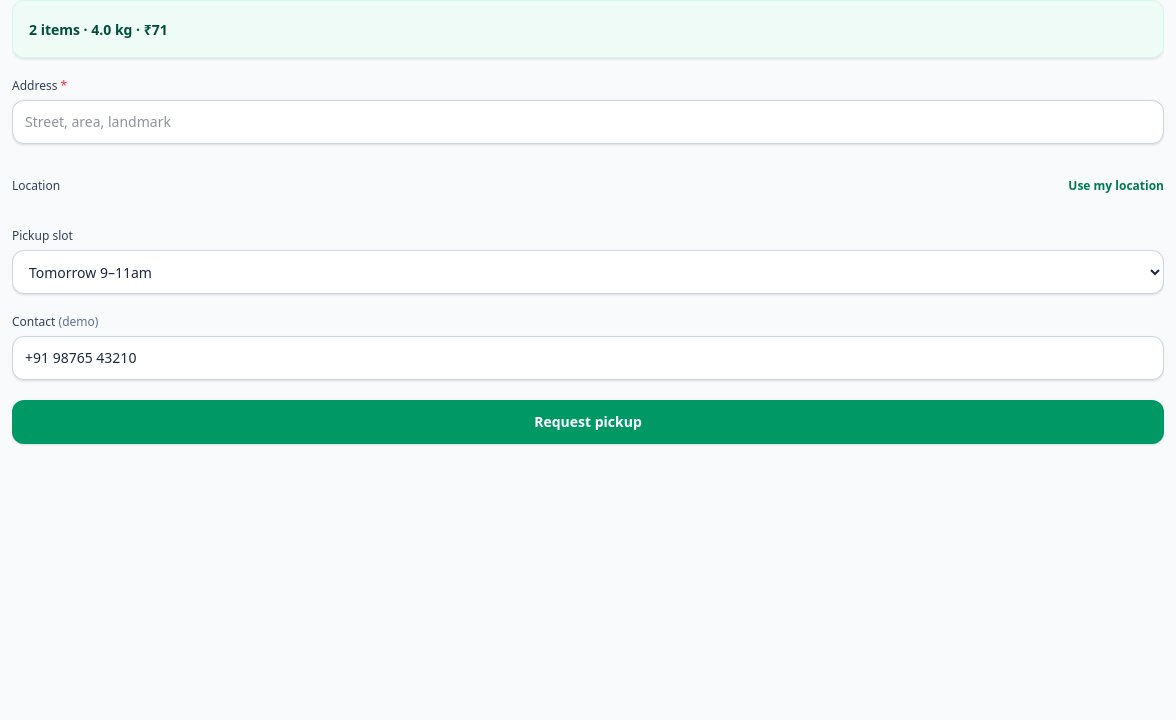
Test: PickupRequestForm › on error → inline error shown
The width and height of the screenshot is (1176, 720).
Type "Some address" into the field with placeholder "Street, area, landmark".
click(588, 122); type("Some address")  # box [12,100,1164,144]
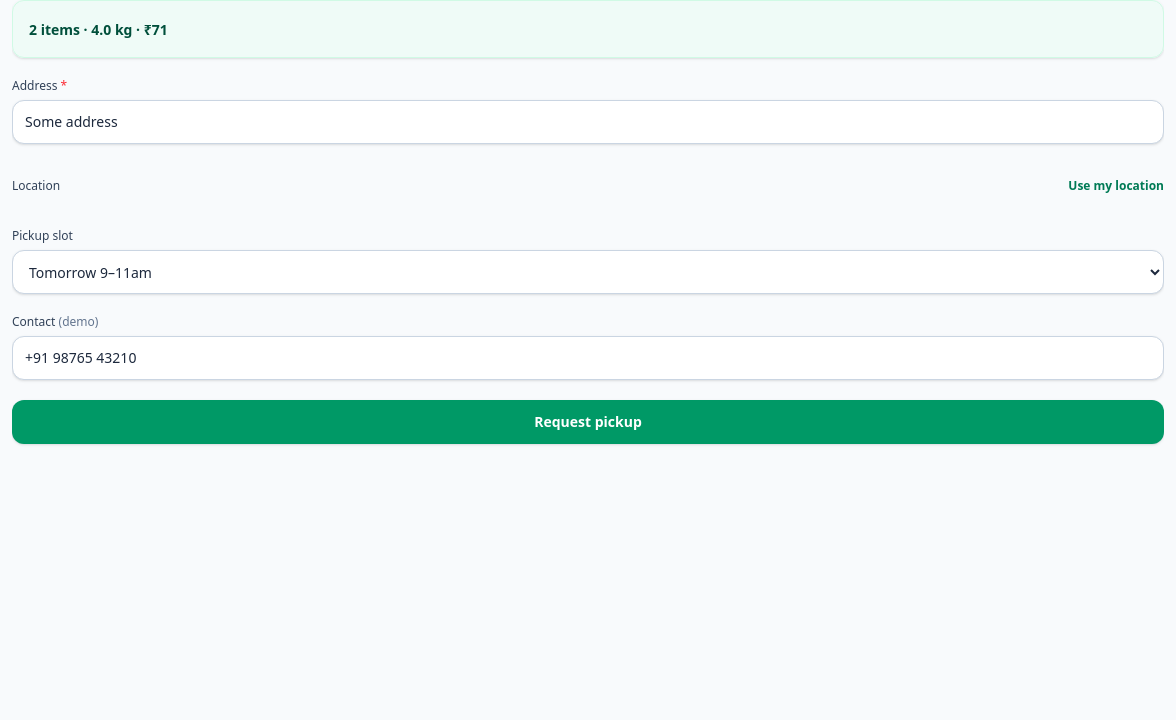
Click the button "Request pickup".
click(588, 422)  # box [12,400,1164,444]
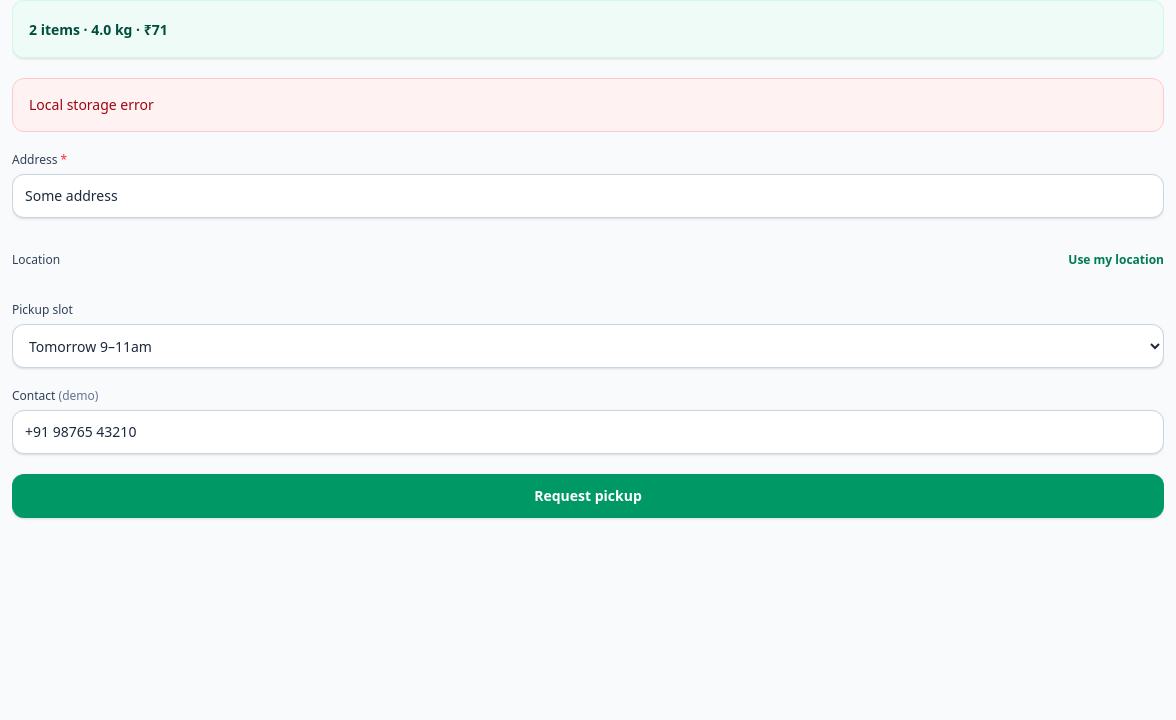
Result: the message reads "Local storage error" at [29,95,154,114]
